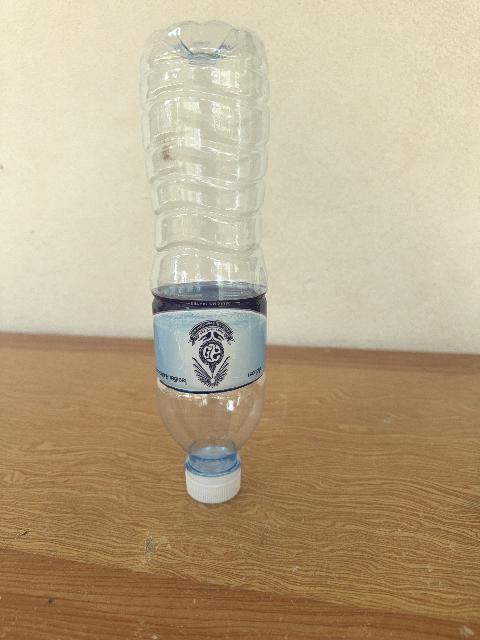bottle: (140, 22, 269, 502)
